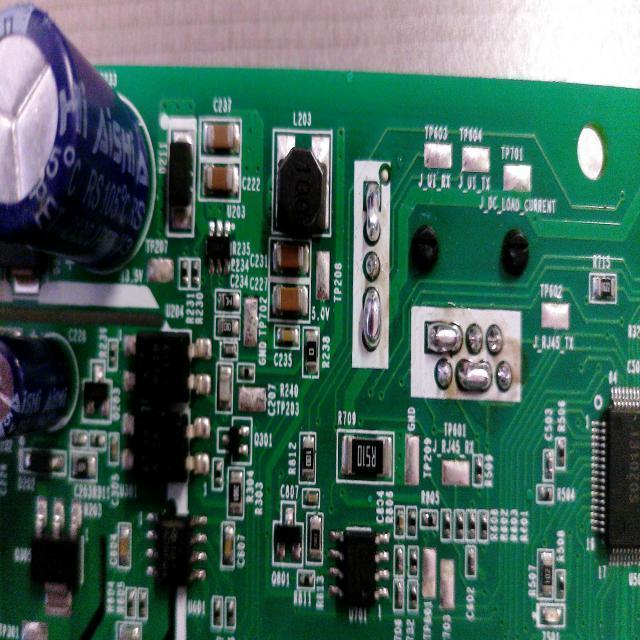Soldering shorted: (458, 358, 497, 402), (424, 314, 464, 356), (364, 284, 386, 359), (364, 180, 381, 246)
